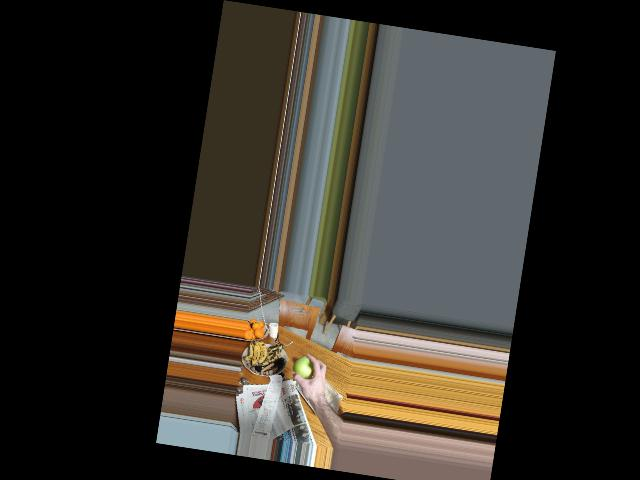apple: (290, 351, 318, 383)
